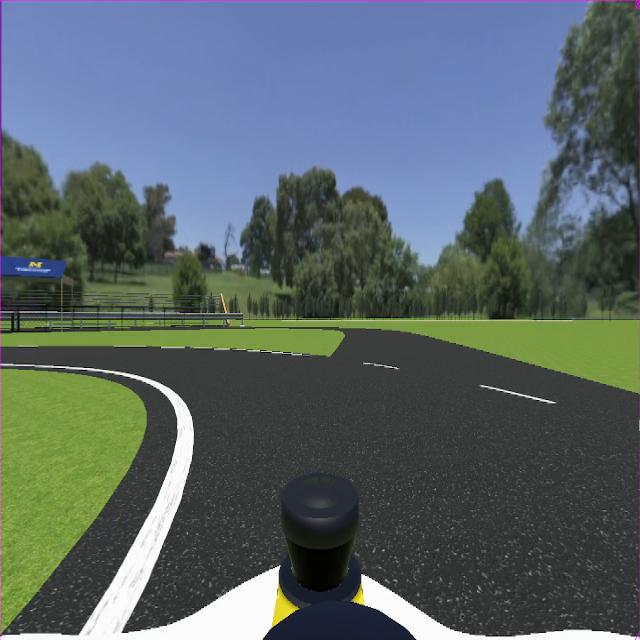dotted_line: (309, 354, 637, 426)
road: (4, 348, 638, 634)
solid_line: (2, 364, 194, 636)
